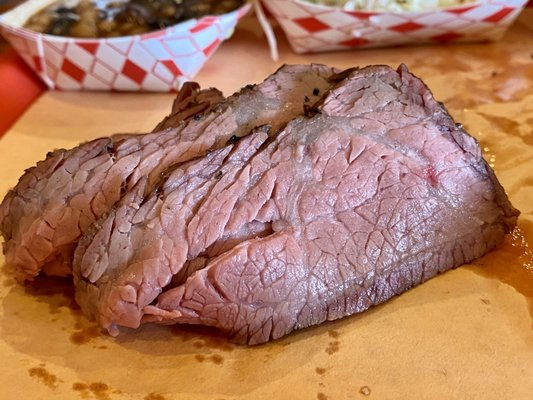soup: (3, 57, 527, 348)
